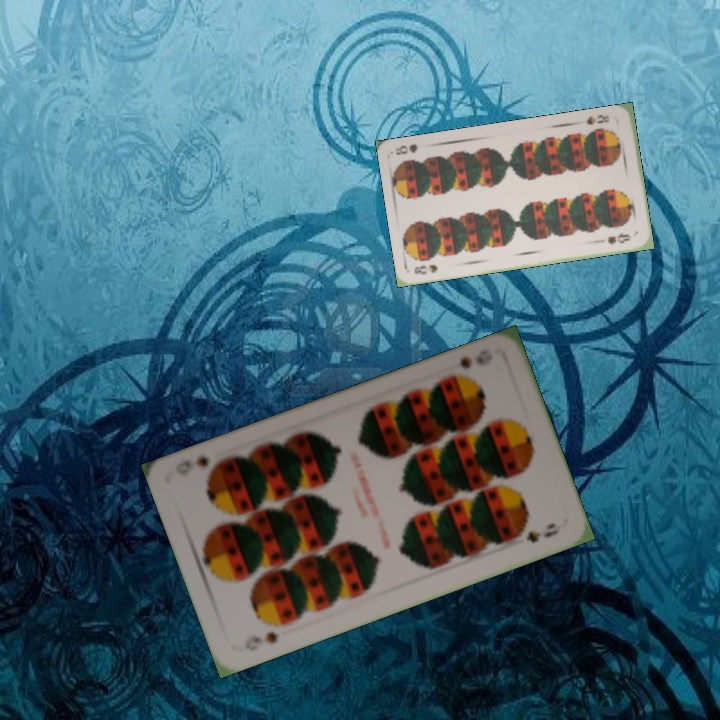S8: (582, 110, 612, 127), (410, 260, 440, 277)
S9: (240, 627, 282, 654), (444, 352, 474, 383)
